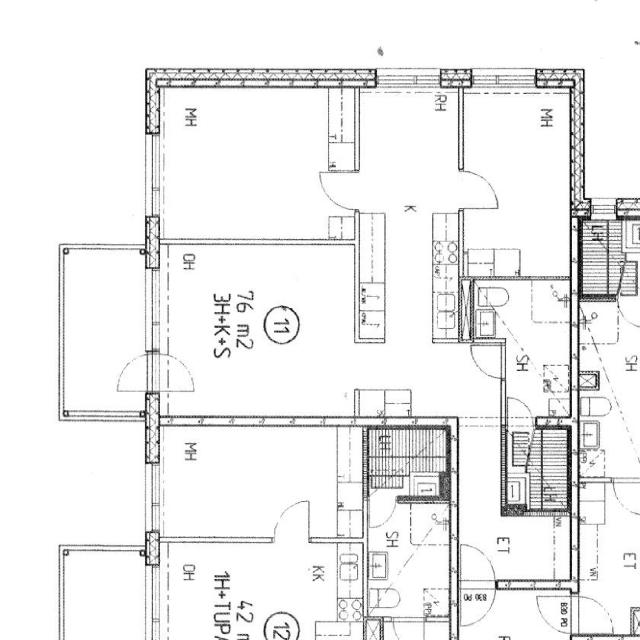door: (457, 540, 498, 590), (459, 165, 503, 211), (272, 496, 314, 544), (458, 586, 496, 629), (113, 352, 151, 394), (469, 341, 506, 381), (536, 594, 570, 634), (163, 353, 197, 392), (367, 491, 399, 531), (610, 477, 640, 519), (318, 172, 353, 208), (616, 293, 640, 332), (505, 394, 535, 423)
window: (371, 70, 441, 96), (143, 265, 162, 353), (144, 459, 166, 528), (143, 130, 166, 195)
zone: (157, 240, 502, 418), (157, 87, 339, 242), (158, 430, 365, 541), (463, 90, 580, 267), (456, 420, 574, 584), (356, 81, 461, 238), (60, 247, 148, 419), (368, 499, 452, 619), (504, 278, 572, 423), (60, 550, 149, 640), (507, 420, 571, 514), (368, 426, 449, 498), (355, 389, 411, 419), (575, 592, 614, 634), (535, 592, 573, 635), (384, 391, 412, 419)
